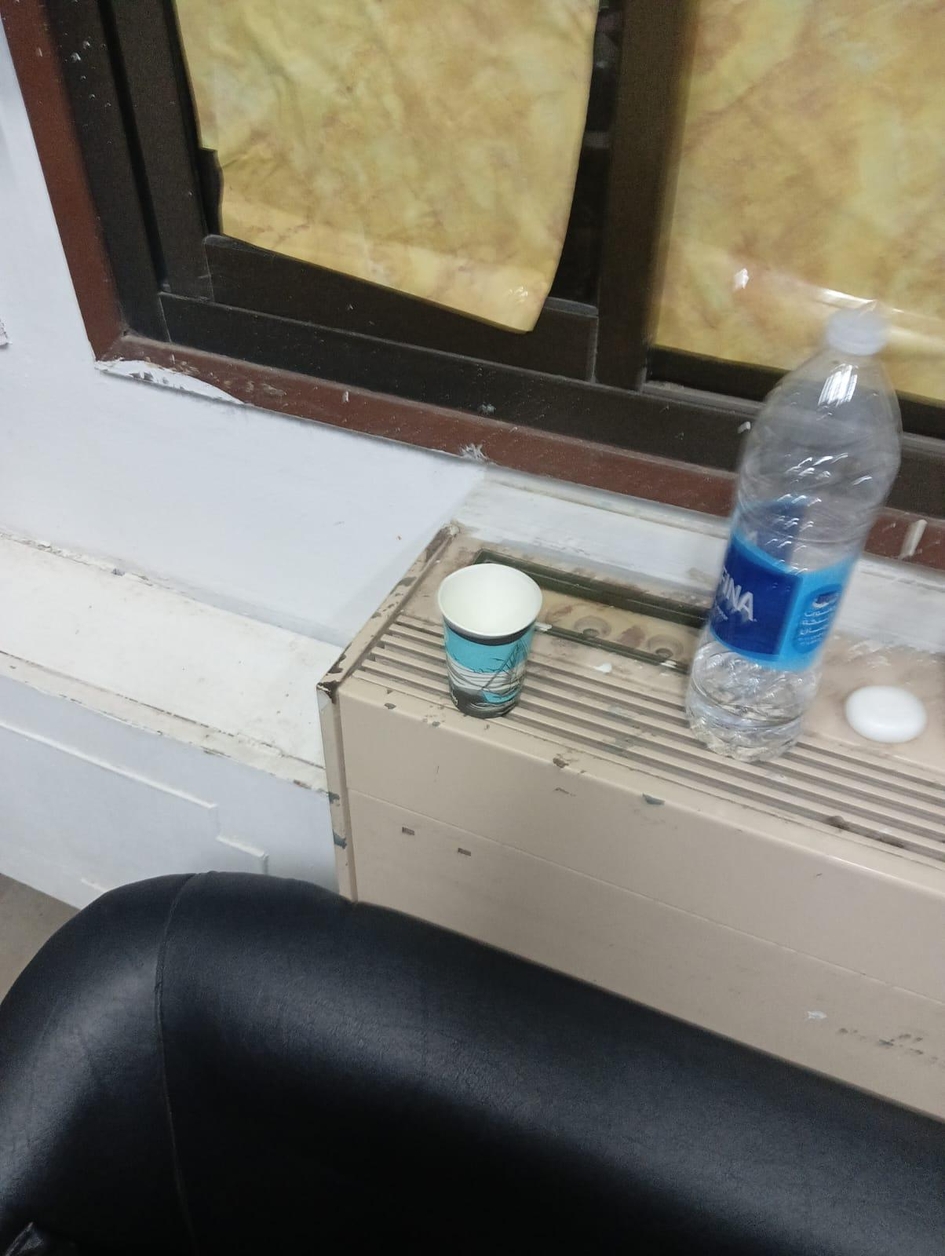cup: (438, 564, 542, 717)
